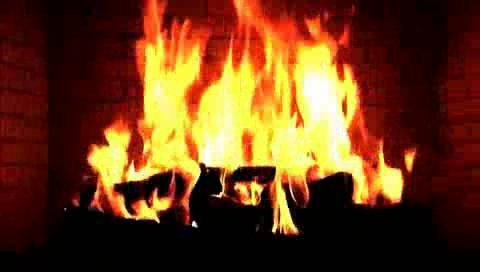fire: (102, 15, 408, 236)
